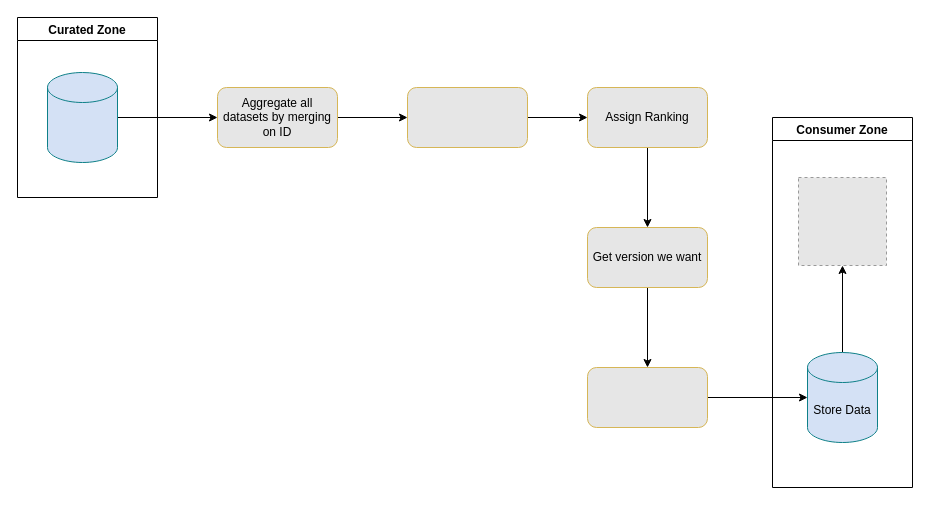
Image size: 930x505. Some labels were removed from this diagram. Grey dashed boxes stand in for pictures. Each missing label, with the centre of its shape:
Continuous Data: the point at 82,117
Light preprocessing: the point at 467,117
Normalize attributes: the point at 647,397
